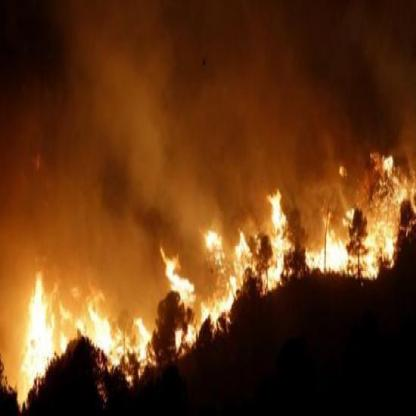fire: (165, 186, 409, 340), (19, 259, 164, 403)
